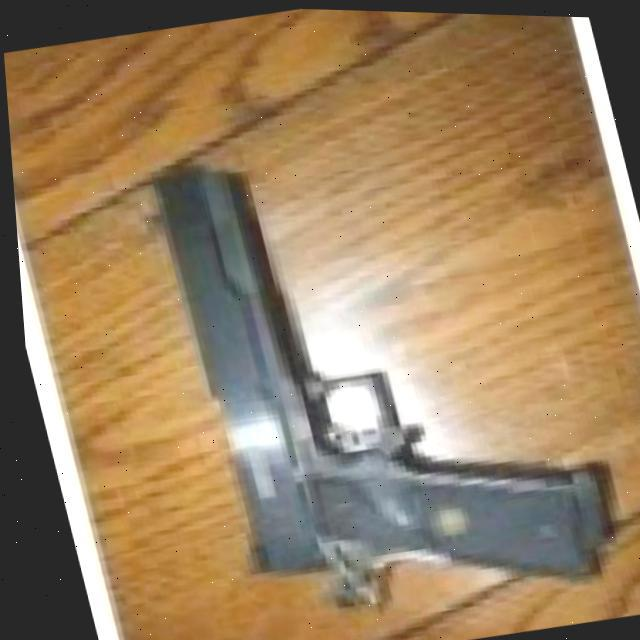gun: (126, 97, 638, 640)
